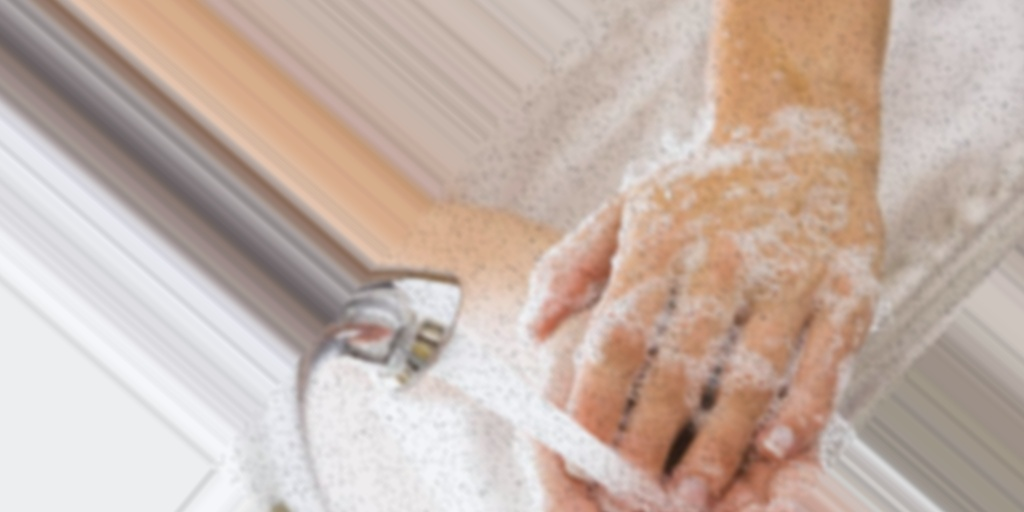washing hand: (308, 0, 1022, 511)
